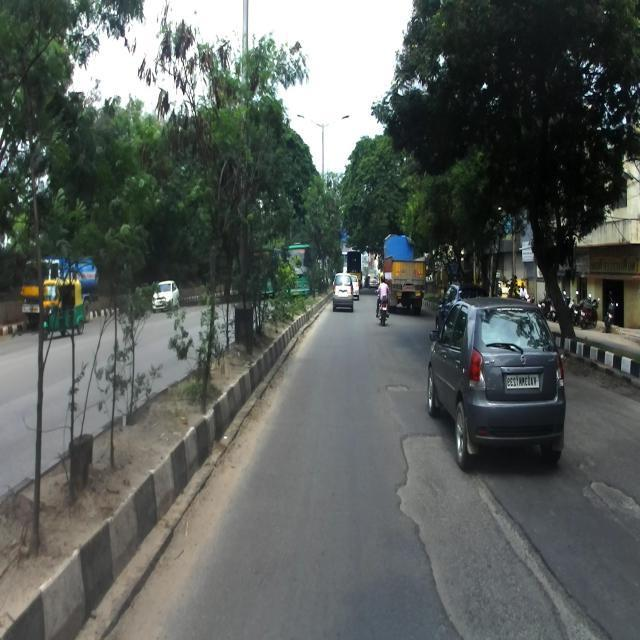Pothole: (398, 514, 561, 640), (581, 457, 640, 571), (384, 408, 437, 511), (565, 583, 637, 640), (368, 362, 414, 407)
